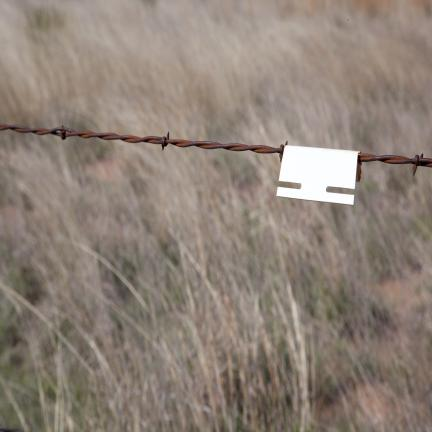karat: (0, 117, 288, 158)
